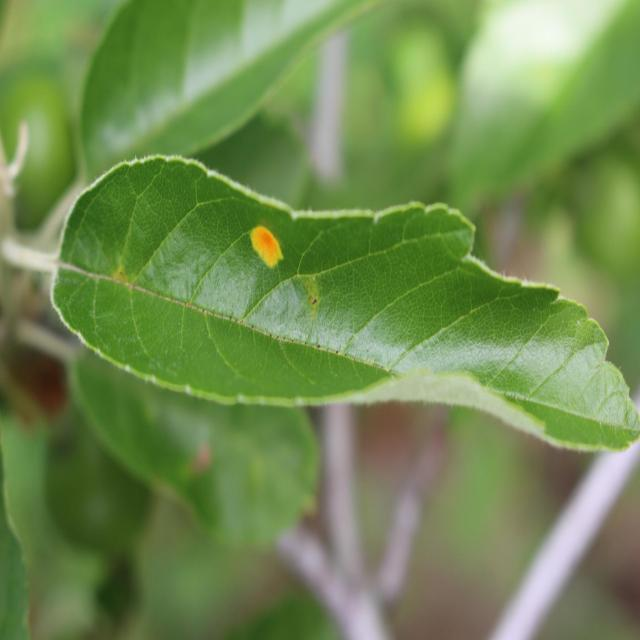Rust: (247, 210, 283, 294)
